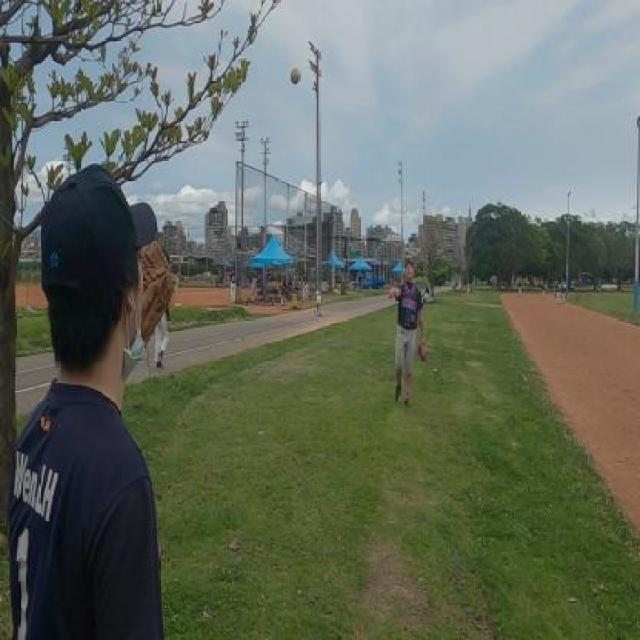baseball: (288, 67, 301, 85)
